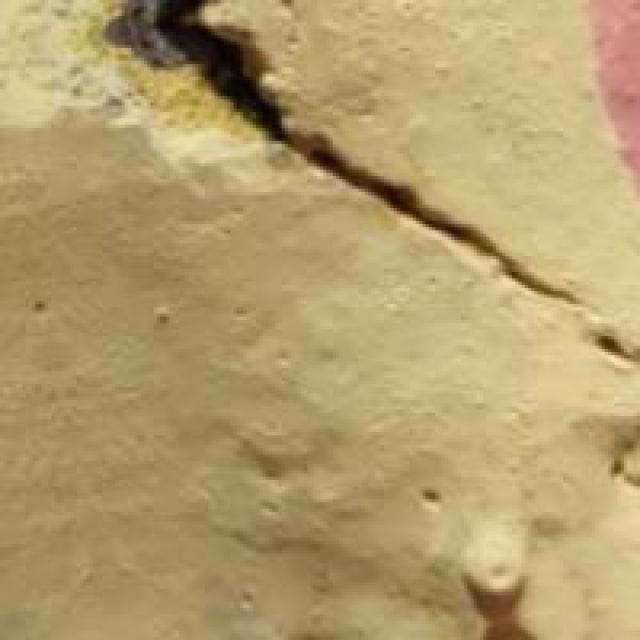crack: (99, 12, 637, 426)
